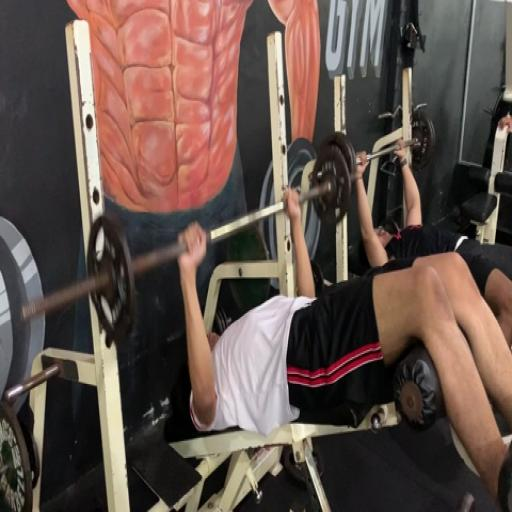exercise: (174, 185, 511, 510)
